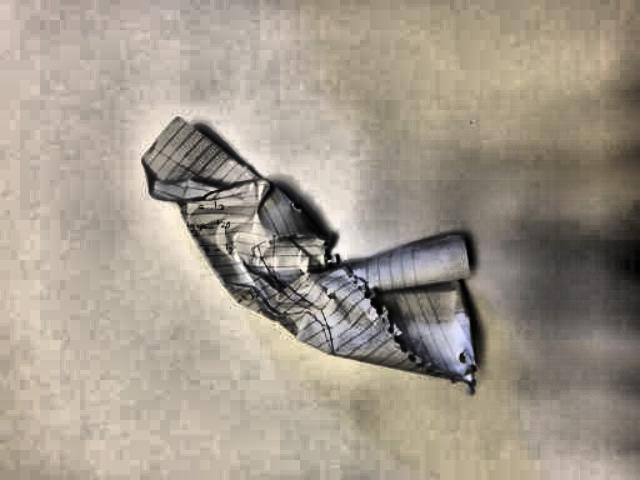Paper: (111, 103, 490, 416)
